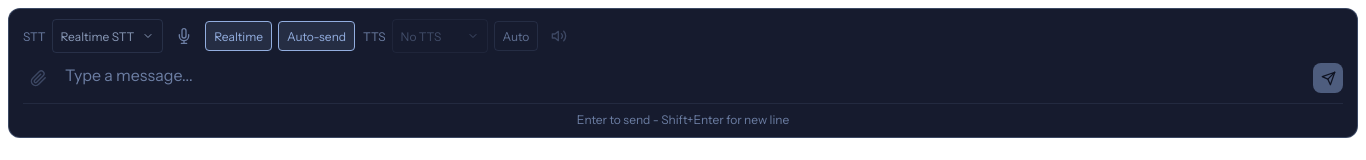
Test: ChatForm speech controls › retains a buffered final transcript that arrives after chat starts loading
Click the button named "Start realtime transcription". click: (184, 36)
box: [169,21,199,51]
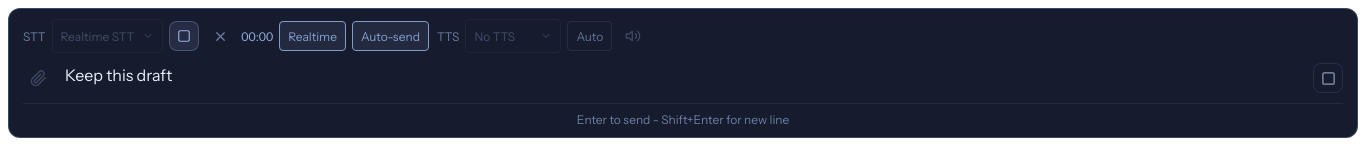
Now the text box named "Chat message" holds "Keep this draft", box [65,63,1301,93]
